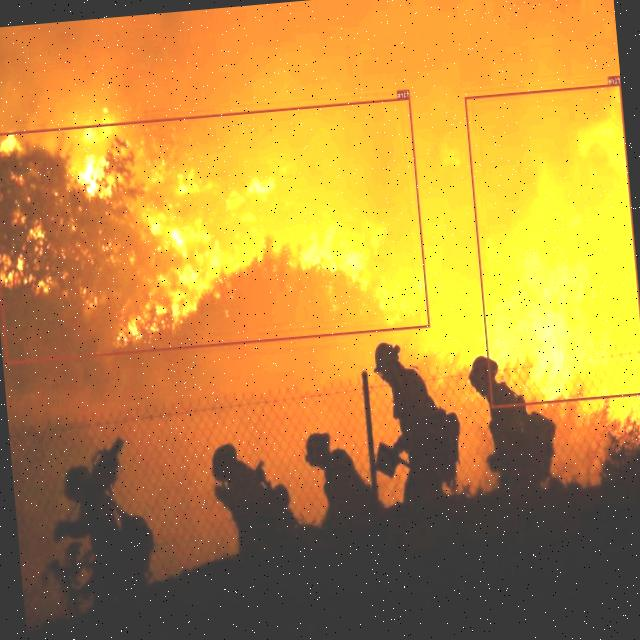fire: (0, 96, 430, 363), (464, 82, 640, 407)
